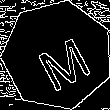M_NW: (25, 23, 90, 88)
